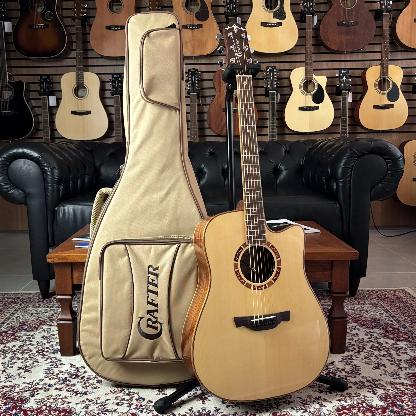acousticguitar: (182, 22, 332, 404), (54, 0, 110, 140), (353, 0, 409, 132)
